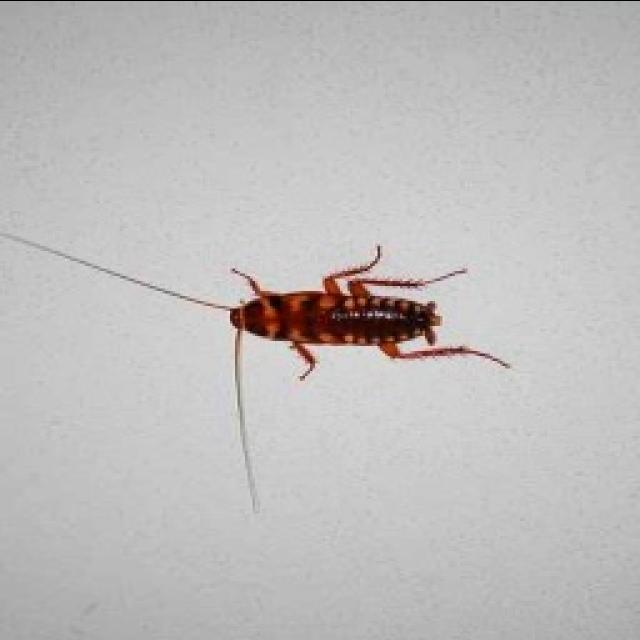cockroach: (192, 269, 494, 388)
